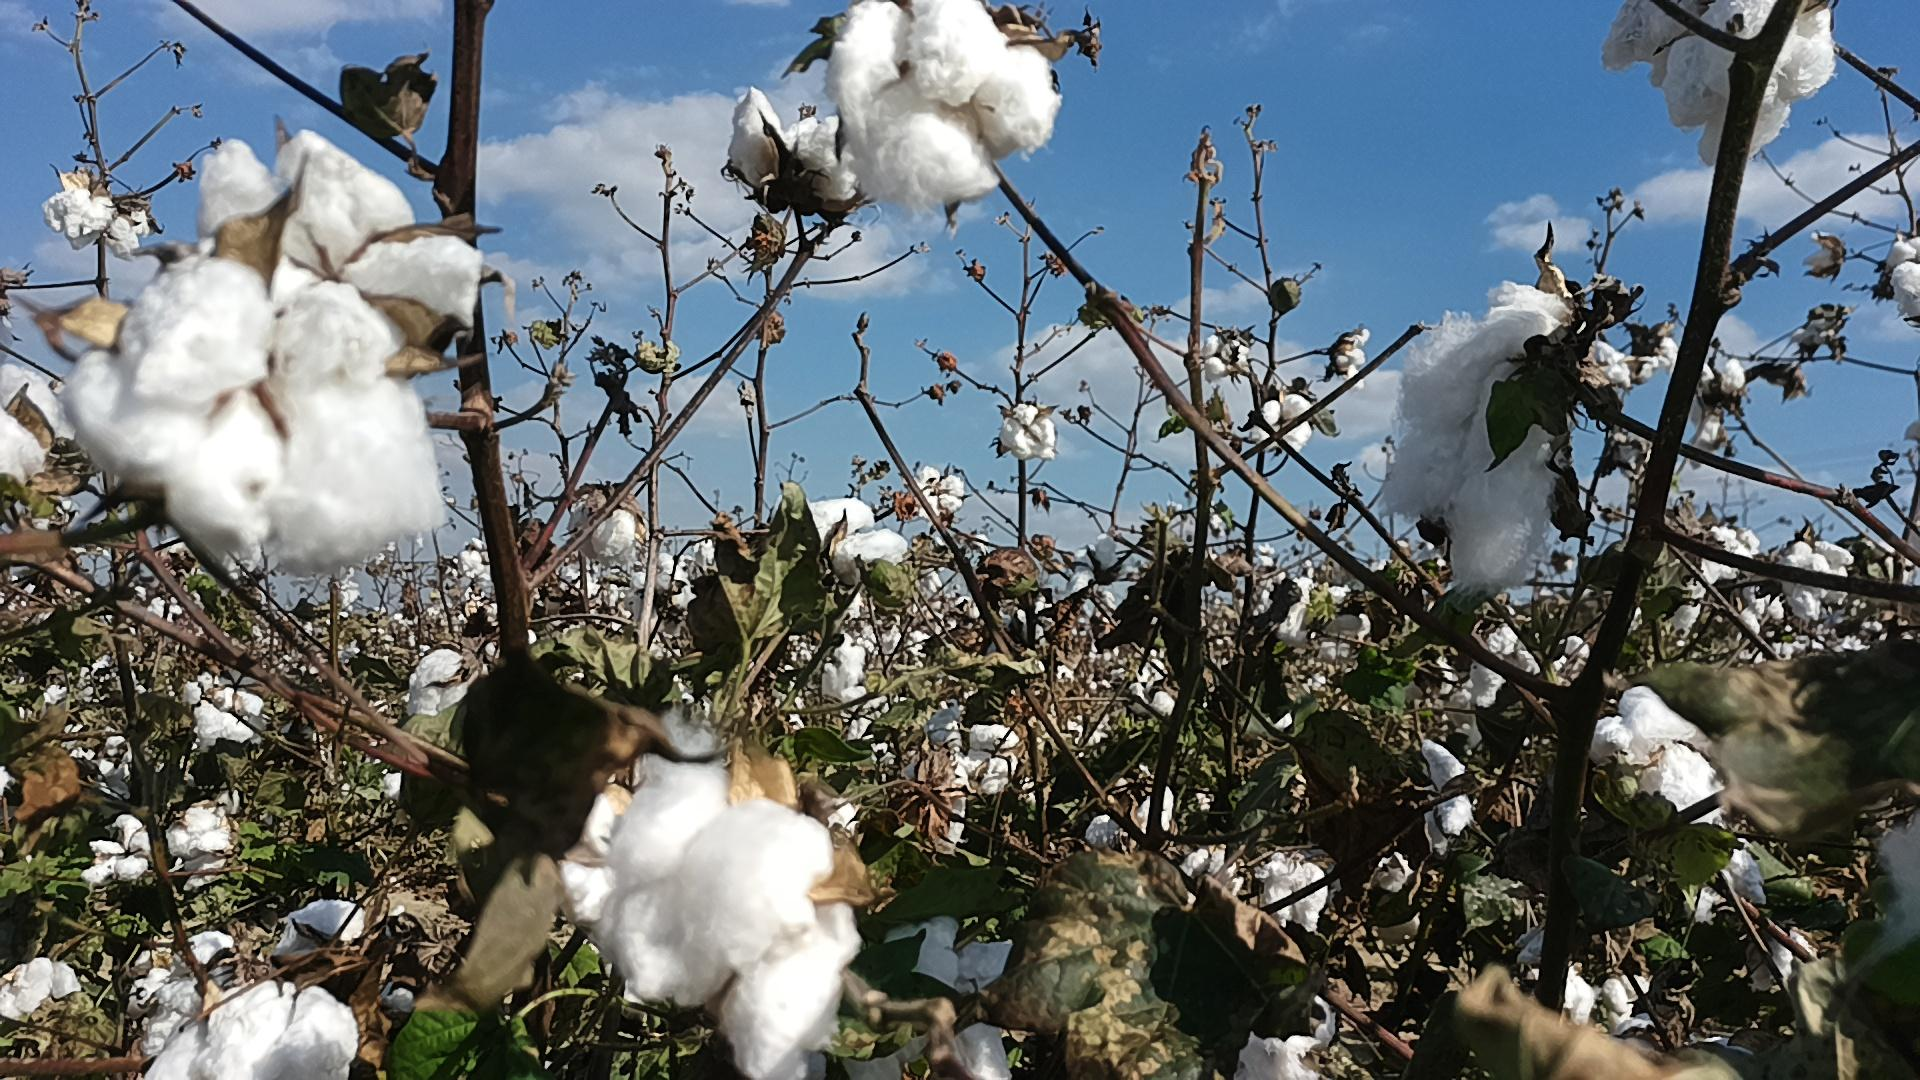cotton_ready: (59, 257, 448, 578), (564, 711, 865, 1080), (1379, 276, 1582, 595), (198, 125, 481, 353), (824, 0, 1058, 215), (1598, 0, 1838, 166), (1588, 683, 1734, 847), (881, 910, 1019, 1080), (142, 978, 365, 1080), (724, 86, 876, 204), (1238, 985, 1338, 1080), (787, 496, 910, 571), (41, 186, 150, 260), (0, 360, 61, 485), (406, 646, 488, 719), (0, 956, 86, 1021)
